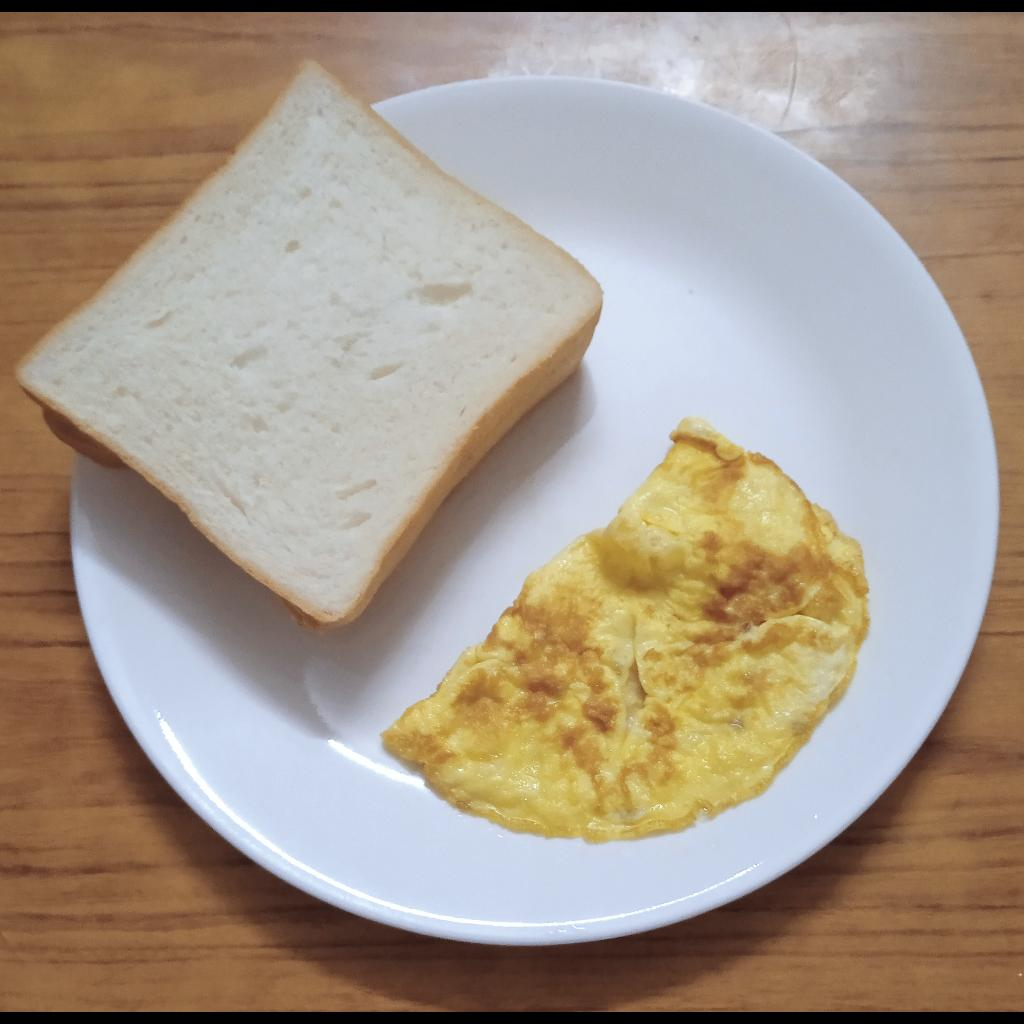bread: (12, 58, 604, 636)
egg-poached: (381, 411, 872, 841)
